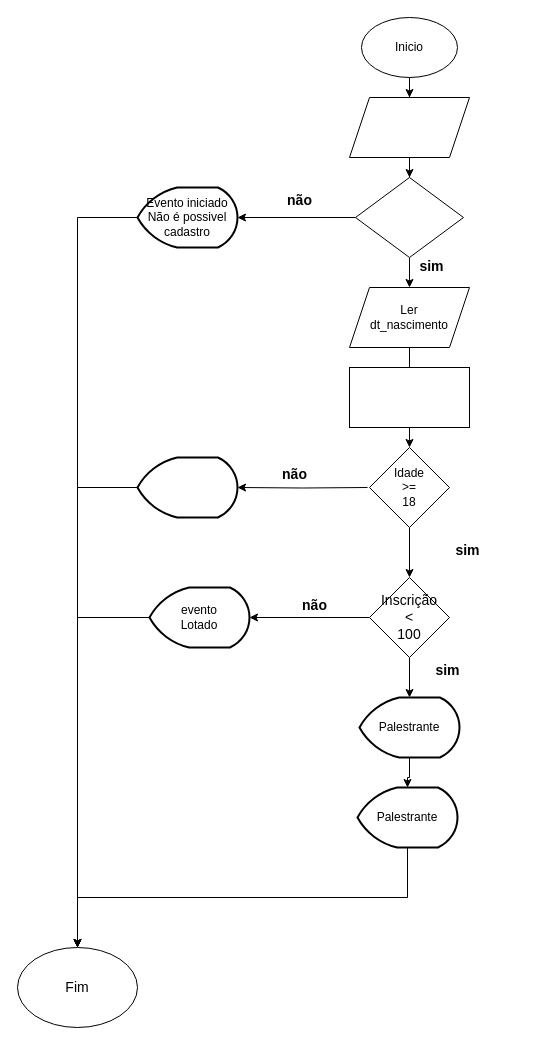
Some shapes in this 535 by 1045 pixel diagram are drawn without their labels. The shapes that lost their labels are listed below. From the top down, each one's box as (x1, y1, x2, y2) in pixels, then its label:
(348, 96, 470, 158): Selecionar Evento
(354, 176, 464, 258): Dt_atual < Data evento
(348, 366, 470, 428): idade= dt_atual - dt_nascimento
(136, 456, 238, 518): idade não permitida ao evento
